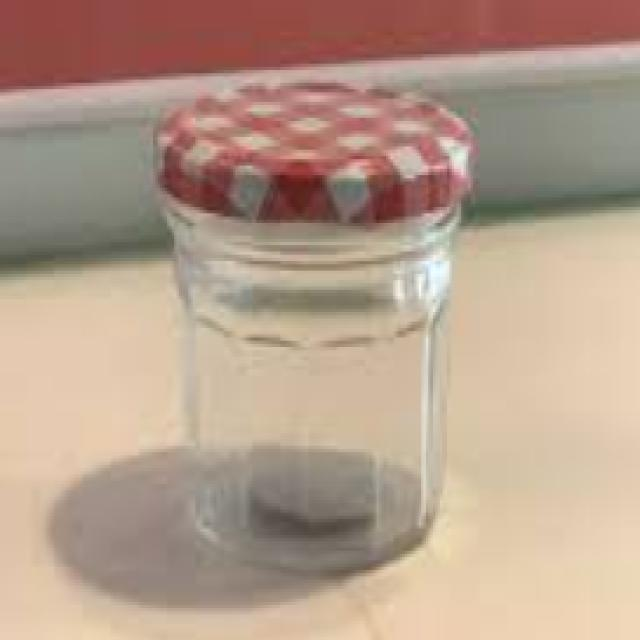ToplesKaca: (129, 74, 486, 574)
